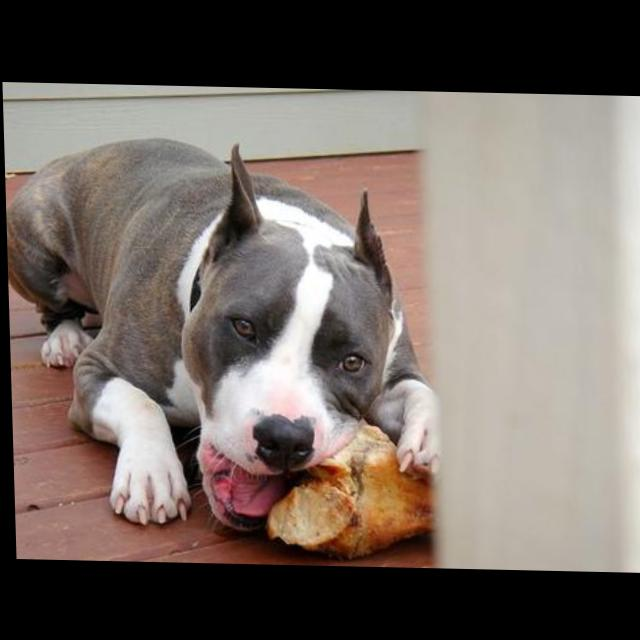amstaff: (5, 132, 441, 537)
